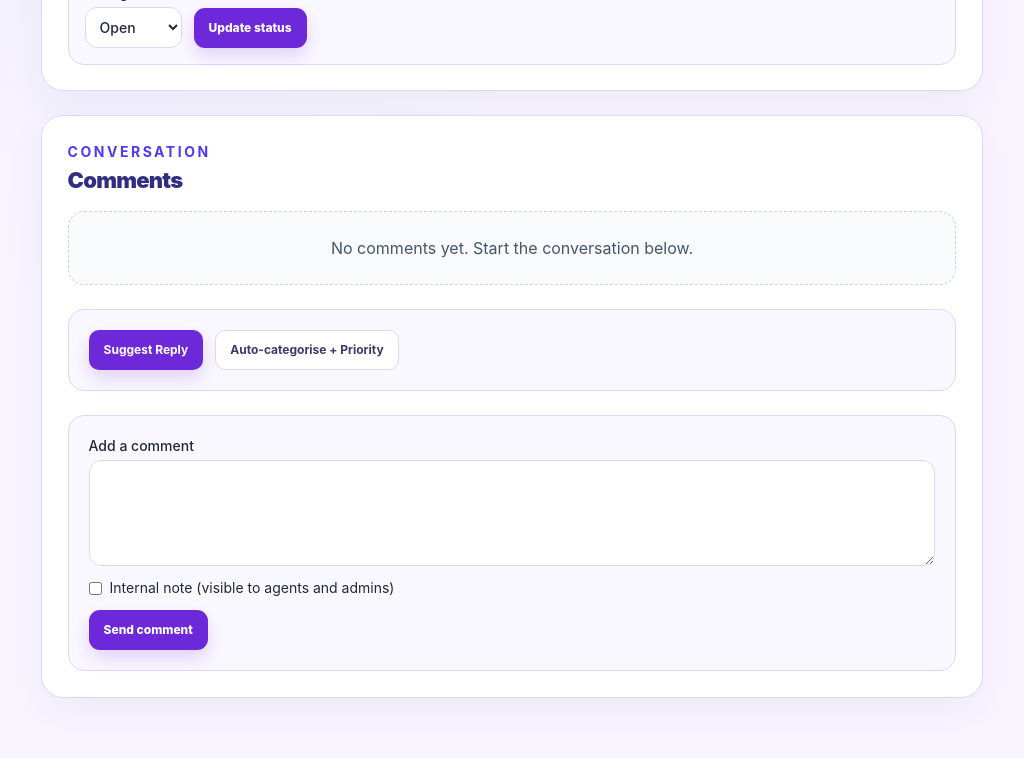
Test: Ticket detail page › shows the manual fallback on reply failure without changing the comment
(page scrolled)
Type "Keep this manually written reply." into the text box labelled "Add a comment" at (512,513), box [88,460,935,566]
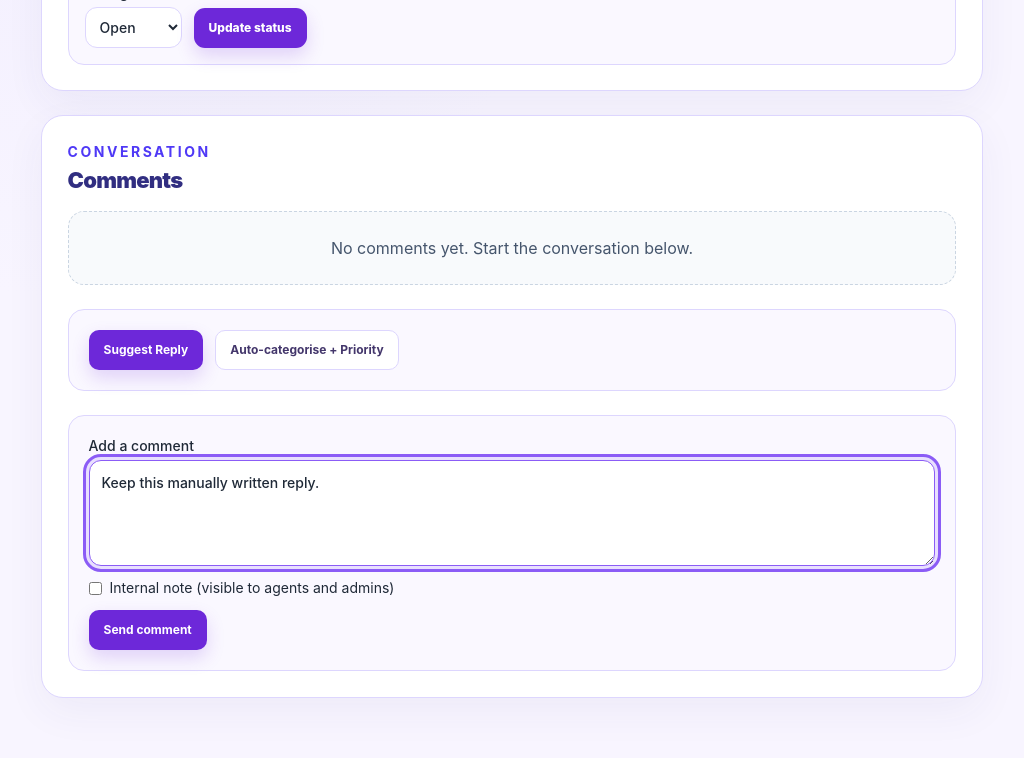
Click the button "Suggest Reply" at (146,350), box [88,330,203,370]
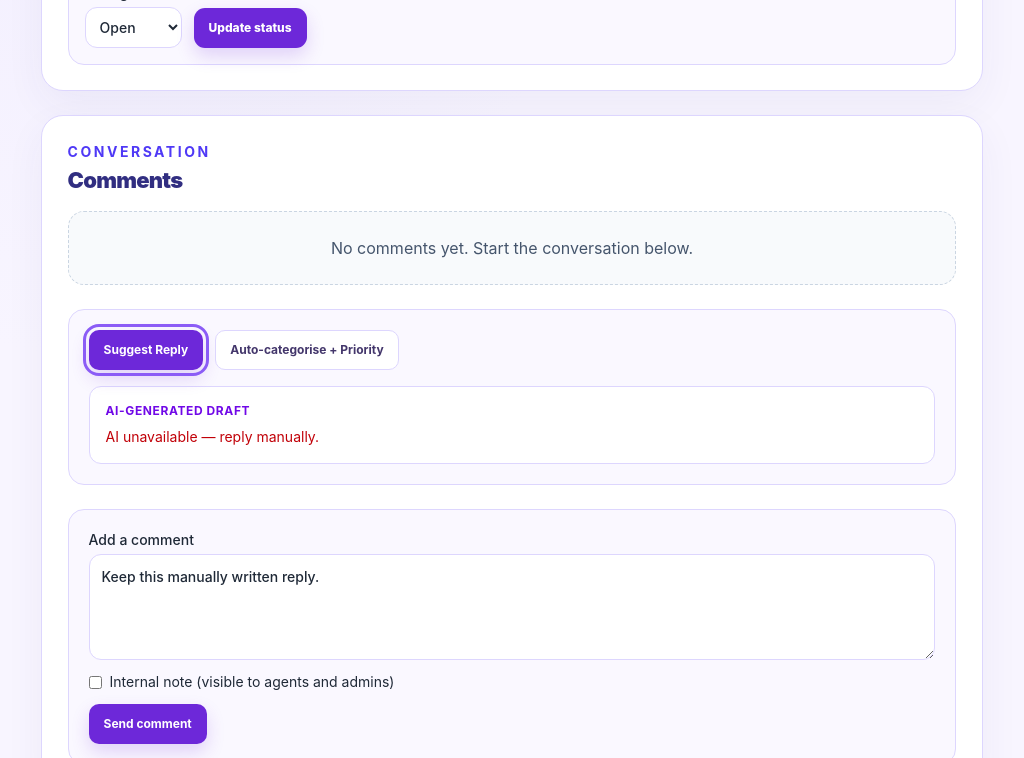
Expected: the text "AI unavailable — reply manually." is shown, [106,428,319,445]
